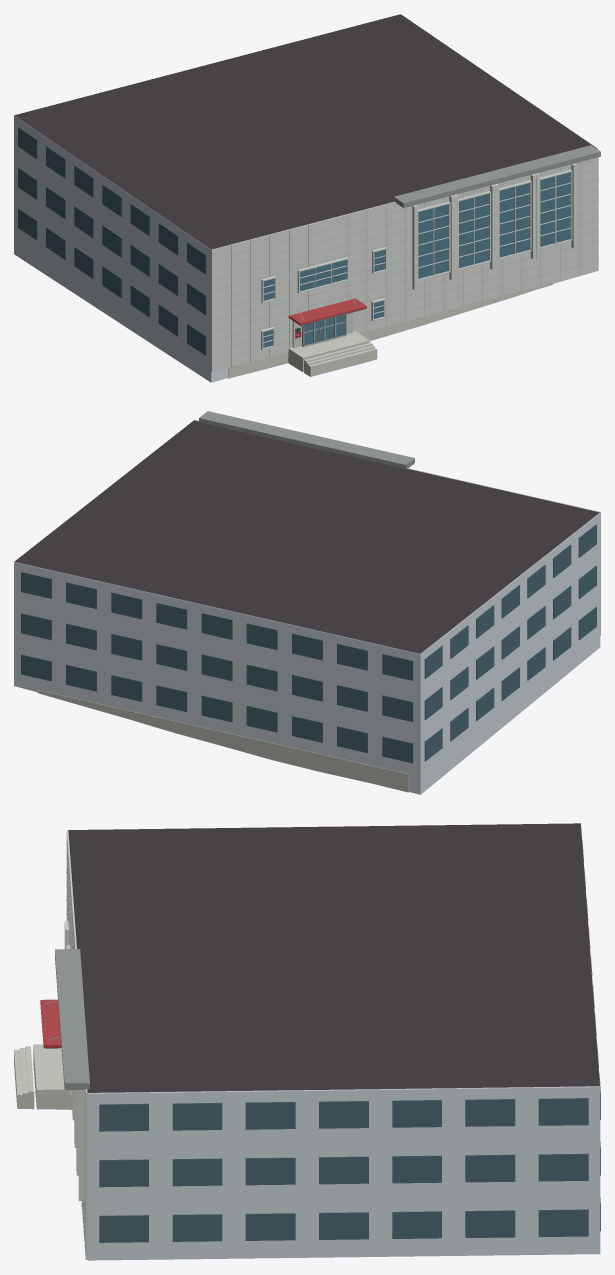
Rendered from fragments.glb.
3 renders of one model, top to bottom at view 1: azimuth 30°, elevation 25°; view 2: azimuth 150°, elevation 25°; view 3: azimuth 270°, elevation 25°, orthographic. The views are drawn at different scales.
Parts seen in each view (by area): view 1: SM_468931924_Fragment_004, SM_468931924_Fragment_020, SM_468931924_Fragment_062, SM_468931924_Fragment_026, SM_468931924_Fragment_040, SM_468931924_Fragment_037, SM_468931924_Fragment_011, SM_468931924_Fragment_013, SM_468931924_Fragment_017, SM_468931924_Fragment_016, SM_468931924_Fragment_028, SM_468931924_Fragment_046 (+24 smaller); view 2: SM_468931924_Fragment_008, SM_468931924_Fragment_014, SM_468931924_Fragment_035, SM_468931924_Fragment_063, SM_468931924_Fragment_059, SM_468931924_Fragment_058, SM_468931924_Fragment_062, SM_468931924_Fragment_018, SM_468931924_Fragment_040, SM_468931924_Fragment_011, SM_468931924_Fragment_017, SM_468931924_Fragment_013 (+28 smaller); view 3: SM_468931924_Fragment_026, SM_468931924_Fragment_021, SM_468931924_Fragment_002, SM_468931924_Fragment_019, SM_468931924_Fragment_025, SM_468931924_Fragment_013, SM_468931924_Fragment_062, SM_468931924_Fragment_017, SM_468931924_Fragment_043, SM_468931924_Fragment_032, SM_468931924_Fragment_028, SM_468931924_Fragment_046 (+23 smaller).
Part boxes in pixels (x1,y1,x2,y2): SM_468931924_Fragment_004: (211, 148, 598, 371); SM_468931924_Fragment_020: (212, 157, 598, 316); SM_468931924_Fragment_062: (394, 141, 600, 290); SM_468931924_Fragment_026: (486, 108, 597, 285); SM_468931924_Fragment_040: (121, 188, 207, 308); SM_468931924_Fragment_037: (261, 225, 366, 376); SM_468931924_Fragment_011: (46, 136, 147, 216); SM_468931924_Fragment_013: (398, 92, 538, 144); SM_468931924_Fragment_017: (171, 64, 288, 118); SM_468931924_Fragment_016: (158, 302, 288, 382); SM_468931924_Fragment_028: (125, 114, 233, 172); SM_468931924_Fragment_046: (339, 112, 462, 164); SM_468931924_Fragment_008: (111, 571, 232, 670); SM_468931924_Fragment_014: (236, 599, 355, 705); SM_468931924_Fragment_035: (337, 624, 453, 724); SM_468931924_Fragment_063: (21, 554, 127, 672); SM_468931924_Fragment_059: (334, 685, 428, 792); SM_468931924_Fragment_058: (111, 654, 232, 737); SM_468931924_Fragment_062: (199, 411, 414, 473); SM_468931924_Fragment_018: (14, 631, 117, 715); SM_468931924_Fragment_040: (516, 525, 579, 633); SM_468931924_Fragment_011: (429, 575, 519, 658); SM_468931924_Fragment_017: (211, 556, 335, 621); SM_468931924_Fragment_013: (122, 462, 254, 511); SM_468931924_Fragment_026: (76, 1041, 245, 1246); SM_468931924_Fragment_021: (289, 1054, 470, 1194); SM_468931924_Fragment_002: (458, 1057, 600, 1205); SM_468931924_Fragment_019: (242, 1131, 392, 1258); SM_468931924_Fragment_025: (385, 1164, 542, 1256); SM_468931924_Fragment_013: (184, 1015, 340, 1132); SM_468931924_Fragment_062: (55, 949, 190, 1206); SM_468931924_Fragment_017: (408, 906, 590, 967); SM_468931924_Fragment_043: (125, 1166, 243, 1259); SM_468931924_Fragment_032: (80, 928, 264, 989); SM_468931924_Fragment_028: (306, 851, 468, 913); SM_468931924_Fragment_046: (165, 962, 346, 1027).
Bounding box in the file's own units: 2.2 × 0.7448 × 2.02.
